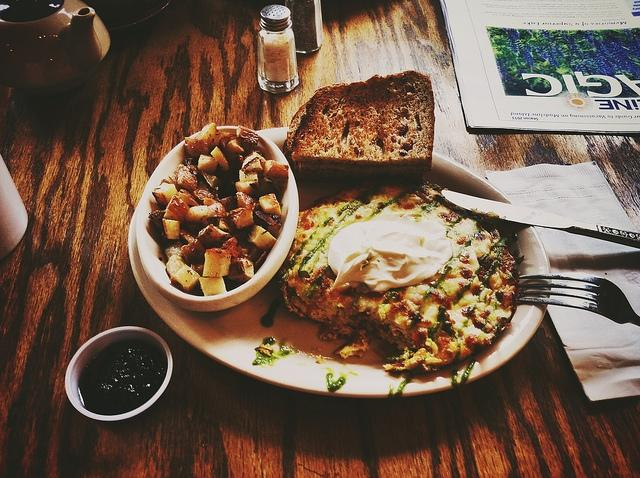potato: (171, 264, 201, 294), (202, 248, 232, 278), (196, 224, 233, 248), (246, 225, 276, 252), (164, 194, 190, 224), (152, 182, 179, 210), (254, 211, 282, 238), (180, 239, 206, 268), (216, 236, 247, 260), (229, 207, 254, 233), (227, 258, 254, 282), (255, 194, 282, 218), (262, 160, 289, 182), (202, 197, 228, 219), (199, 276, 227, 296), (256, 177, 280, 200), (165, 238, 188, 262), (177, 165, 198, 191), (201, 169, 224, 191), (236, 125, 260, 146), (211, 146, 229, 172), (195, 123, 217, 144), (166, 254, 185, 278), (185, 205, 208, 224), (236, 192, 260, 210), (190, 188, 214, 205), (178, 189, 202, 206), (198, 154, 218, 174), (218, 180, 238, 200), (162, 218, 180, 240), (239, 170, 259, 189), (242, 156, 264, 173), (226, 138, 249, 154), (219, 132, 238, 151), (235, 181, 259, 196), (220, 196, 238, 213), (250, 142, 266, 158), (191, 261, 205, 276), (256, 158, 266, 178)
